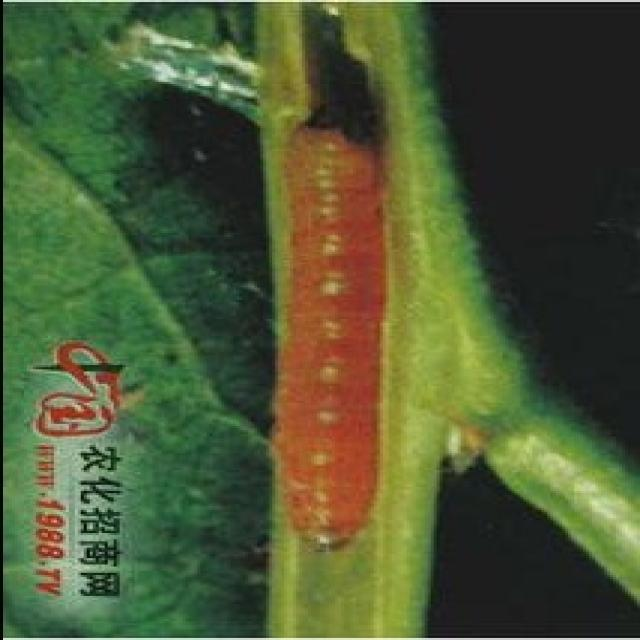peach borer: (284, 121, 388, 570)
